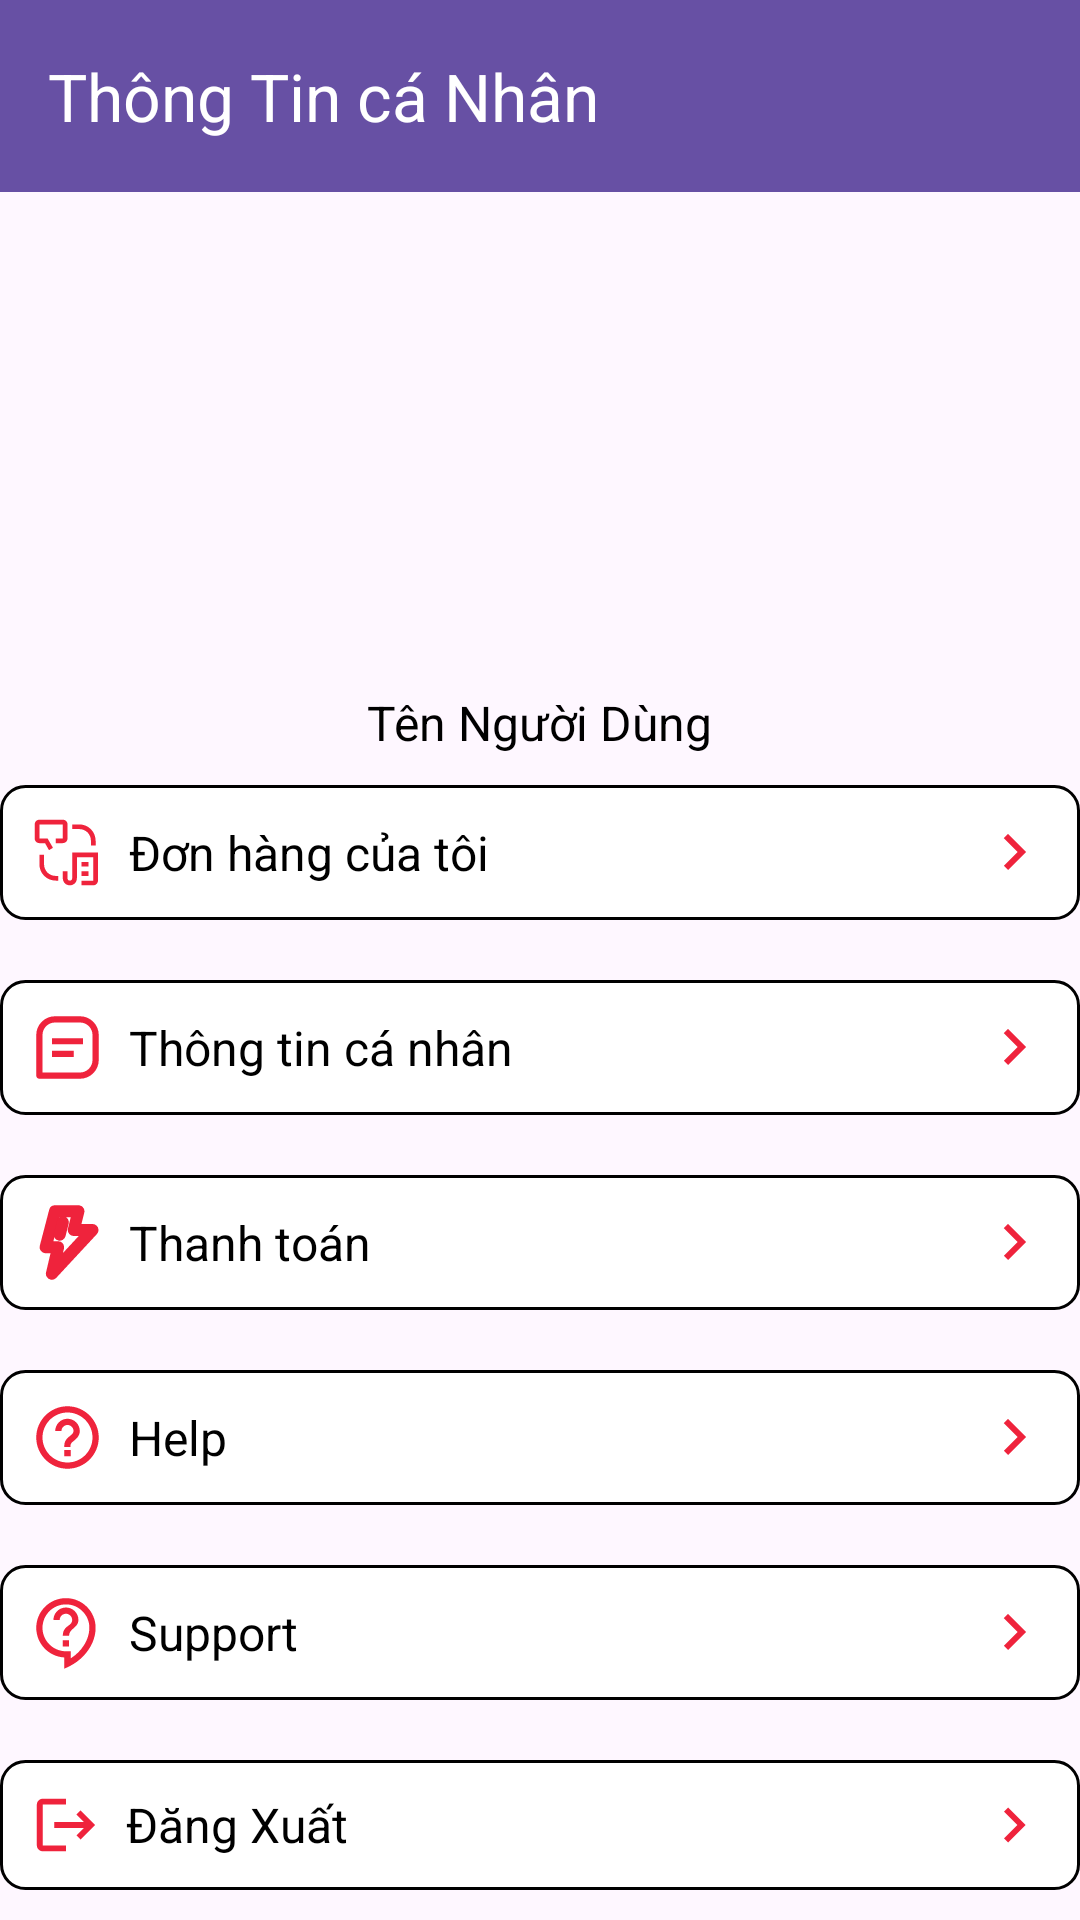

Icon click points for this 1080 × 1920 phone screenshot, format (x=x, y=y):
arrow right: (x=1015, y=852), (x=1015, y=1047), (x=1015, y=1242), (x=1015, y=1437), (x=1015, y=1632), (x=1015, y=1825)
